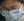with_mask: (1, 2, 24, 21)
